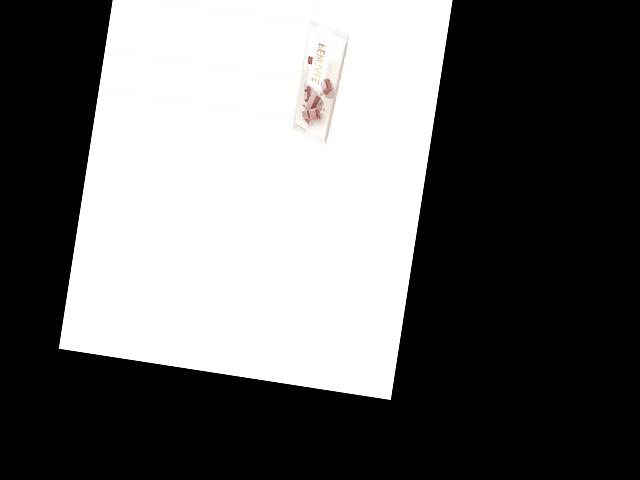chocolate: (290, 18, 349, 147)
